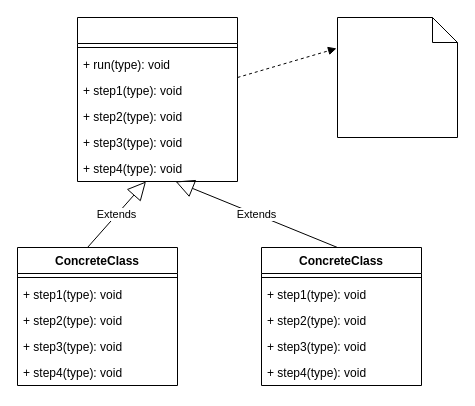
Image size: 475x406. Some labels were removed from this diagram. The box of each missing label's shape, as (x1, y1, x2, y2) in pixels:
AbstractTemplate: (76, 16, 238, 182)
run方法中依次执行step1 step2 step3 step4: (336, 16, 458, 138)
